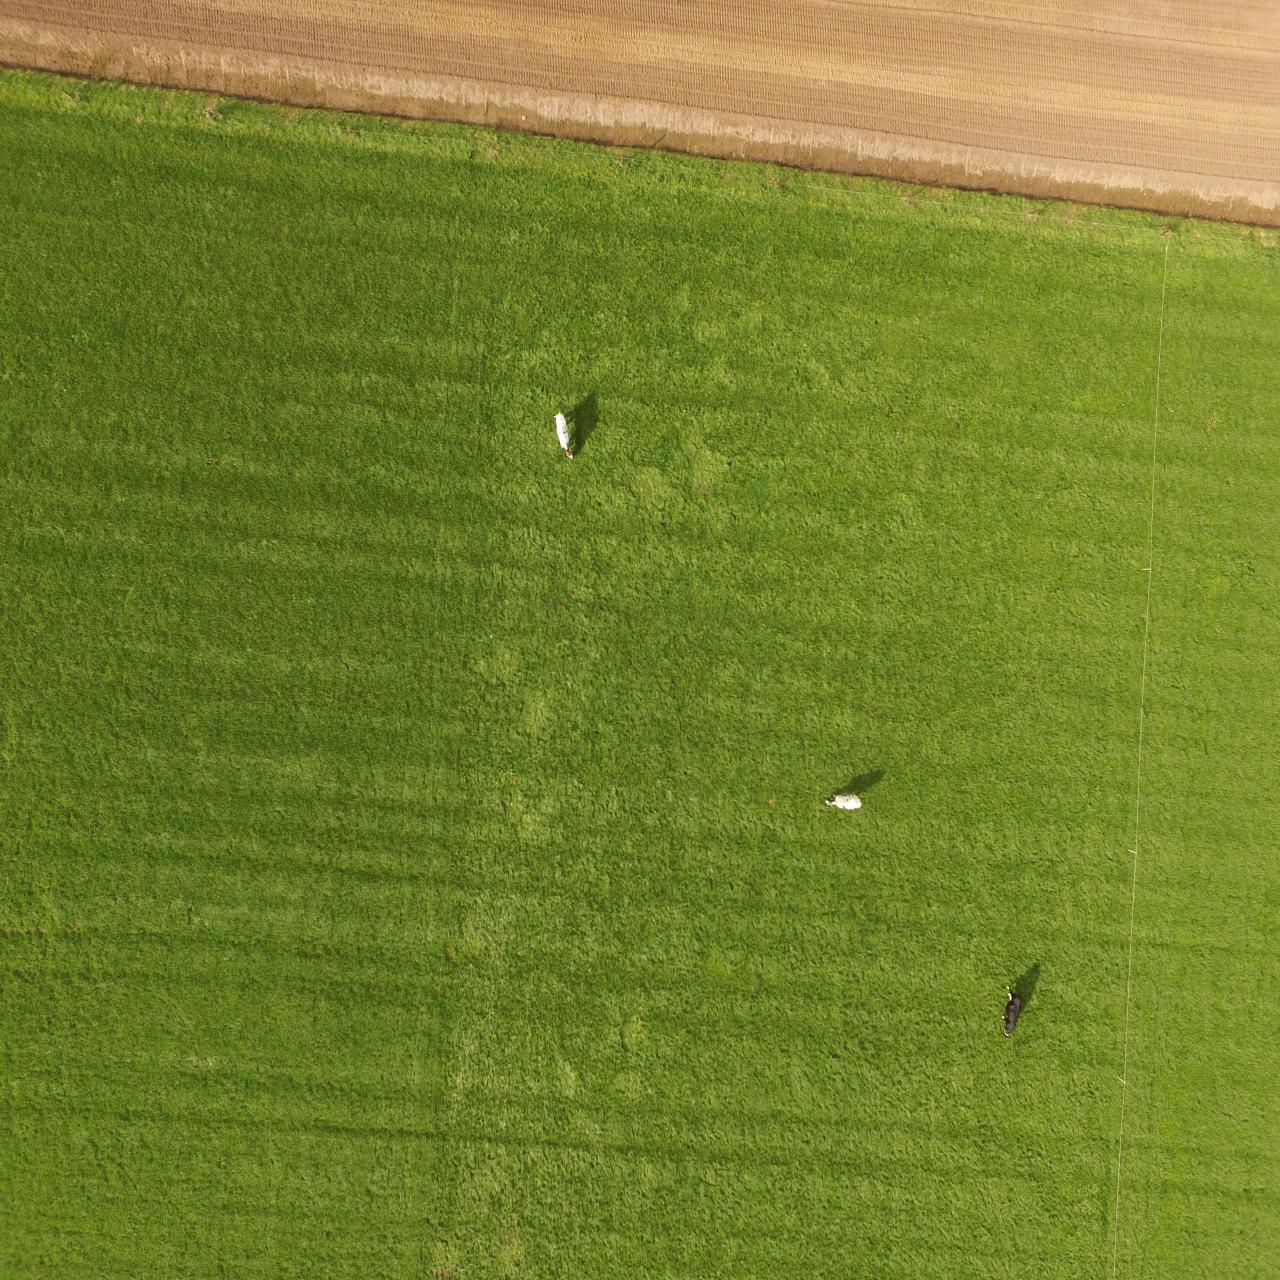cow: (998, 980, 1031, 1040), (550, 406, 577, 466), (818, 786, 865, 810)
